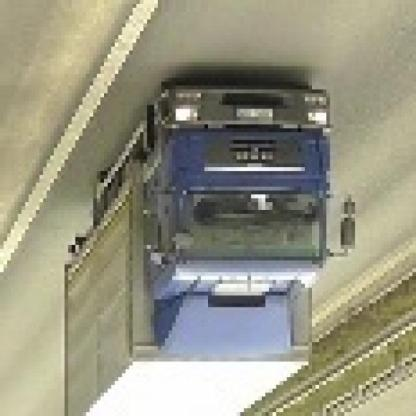truck: (69, 87, 360, 416)
